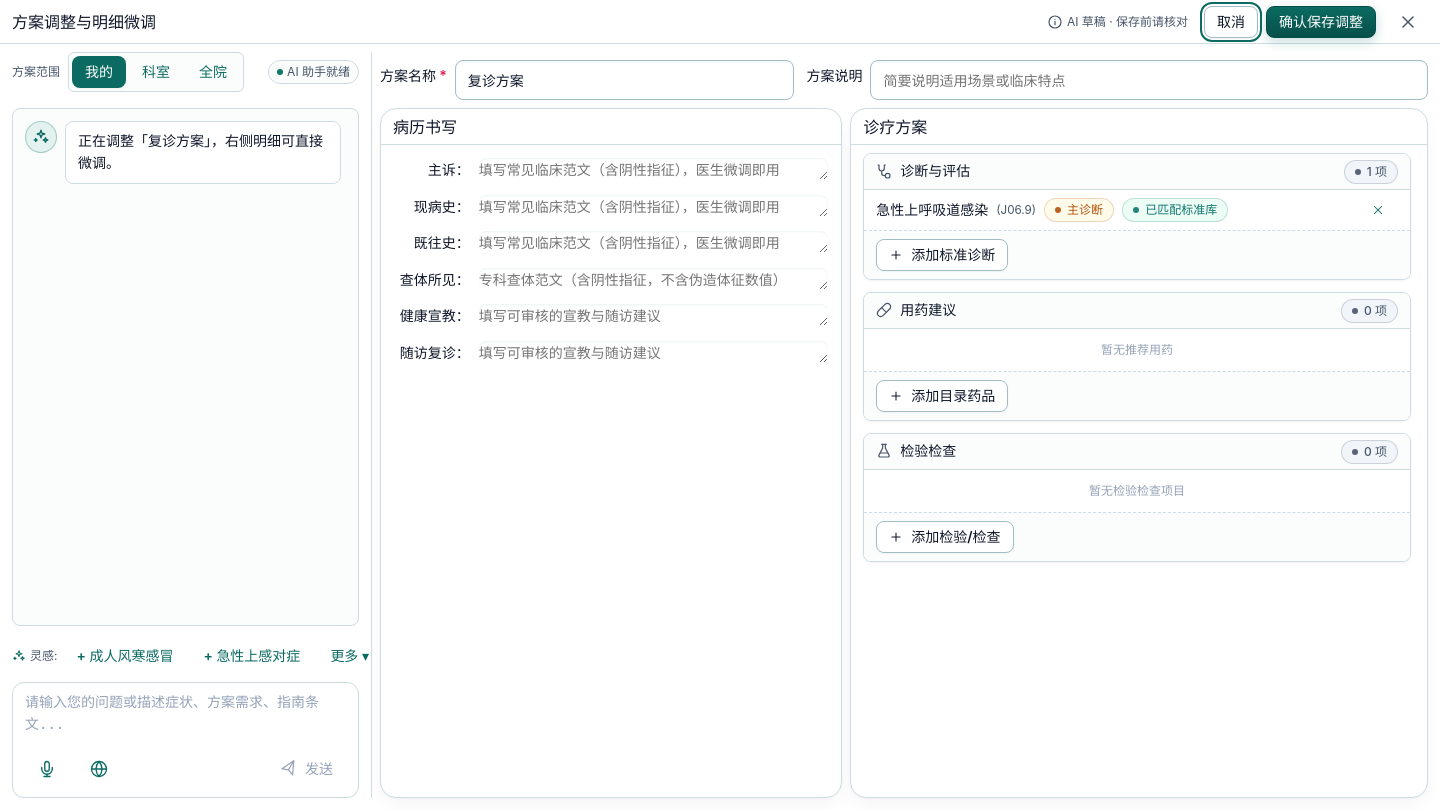
it: AI plan catalog search workflow › keeps medication query failures visible and supports a retry
Click the button "添加目录药品" at x=942, y=396, box [876,380,1008,412]
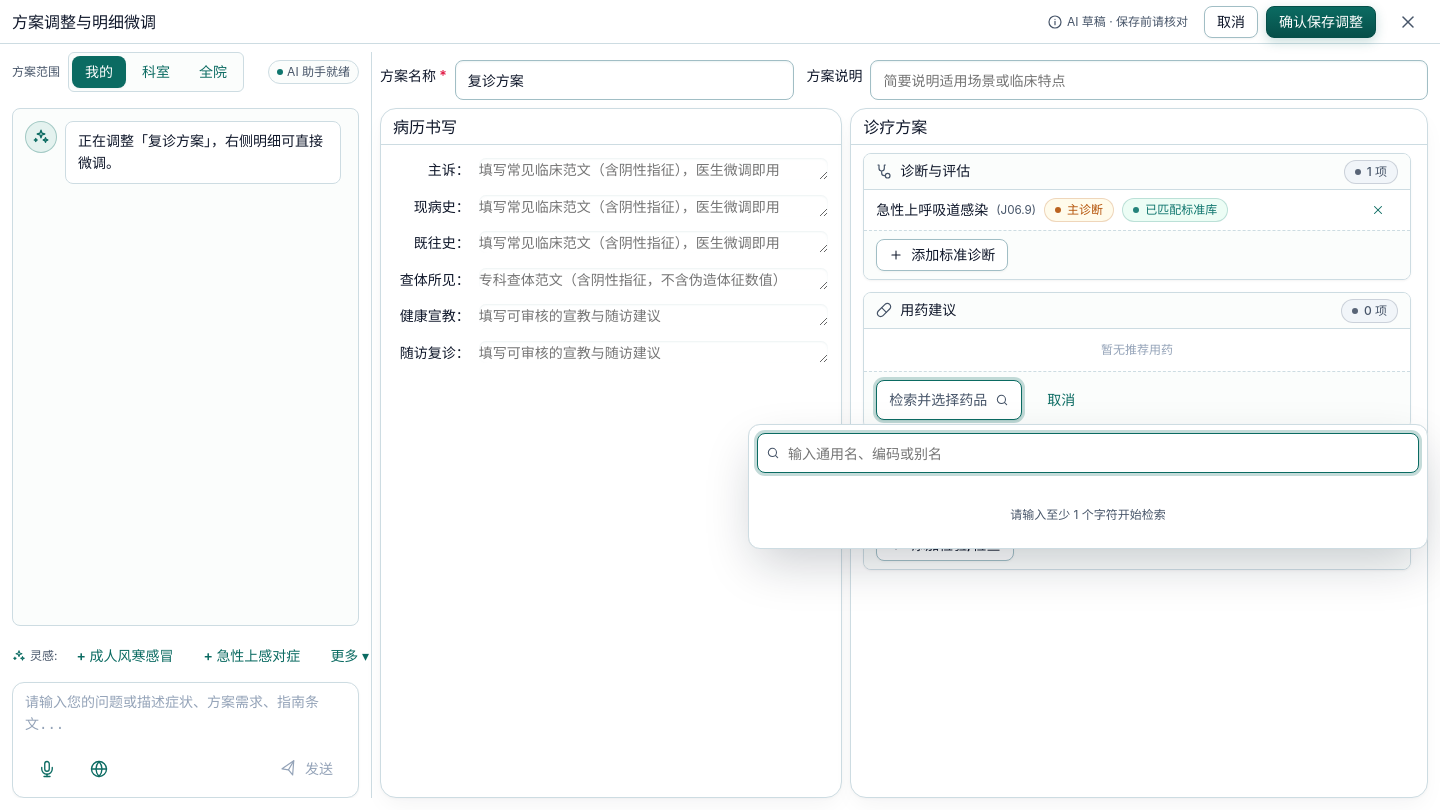
Type "目标" into the field with placeholder "输入通用名、编码或别名" at x=1099, y=453, box [788,437,1410,469]
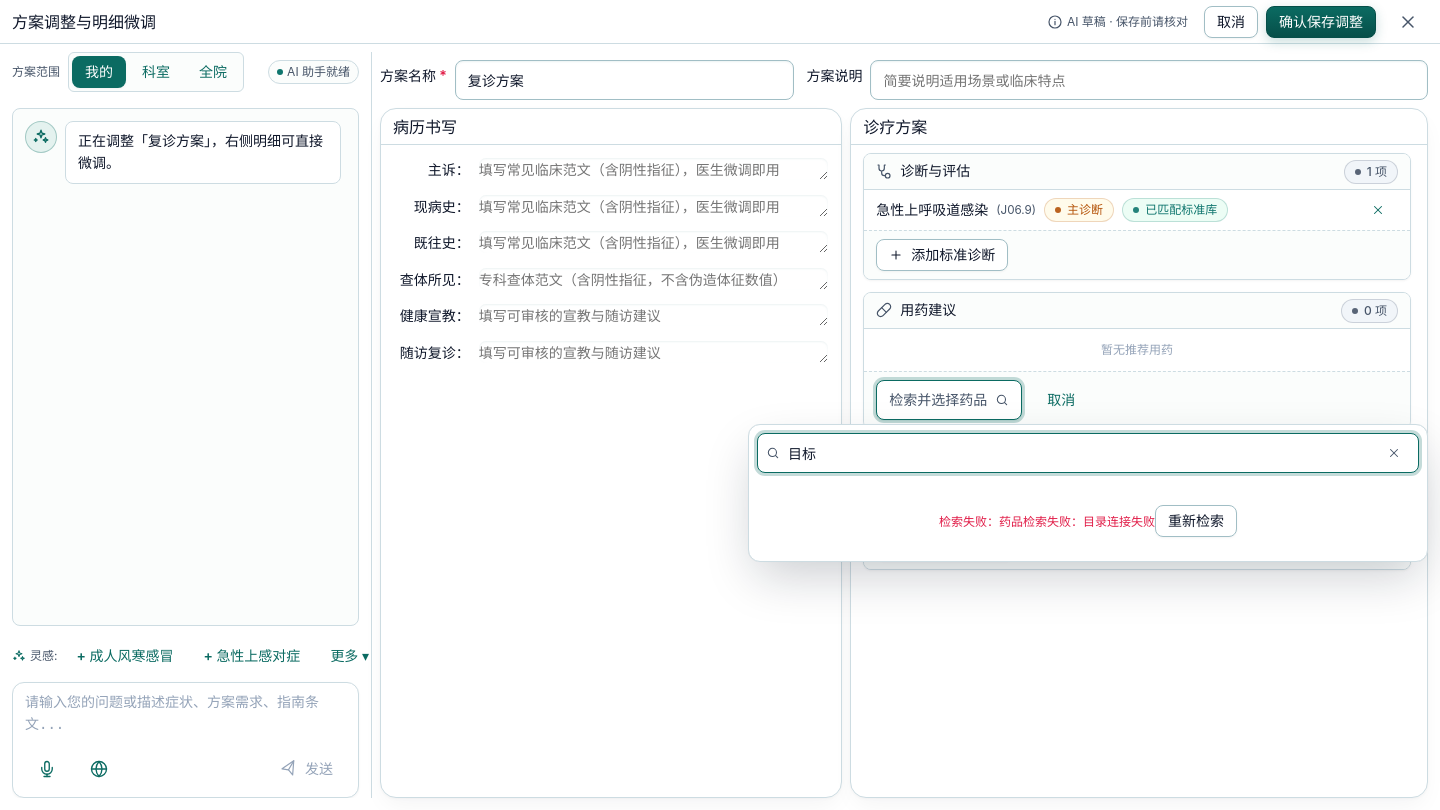
expect the message shows "目录连接失败": met, box [939,514,1155,529]
Click the button "重新检索" at x=1196, y=521, box [1155,505,1237,537]
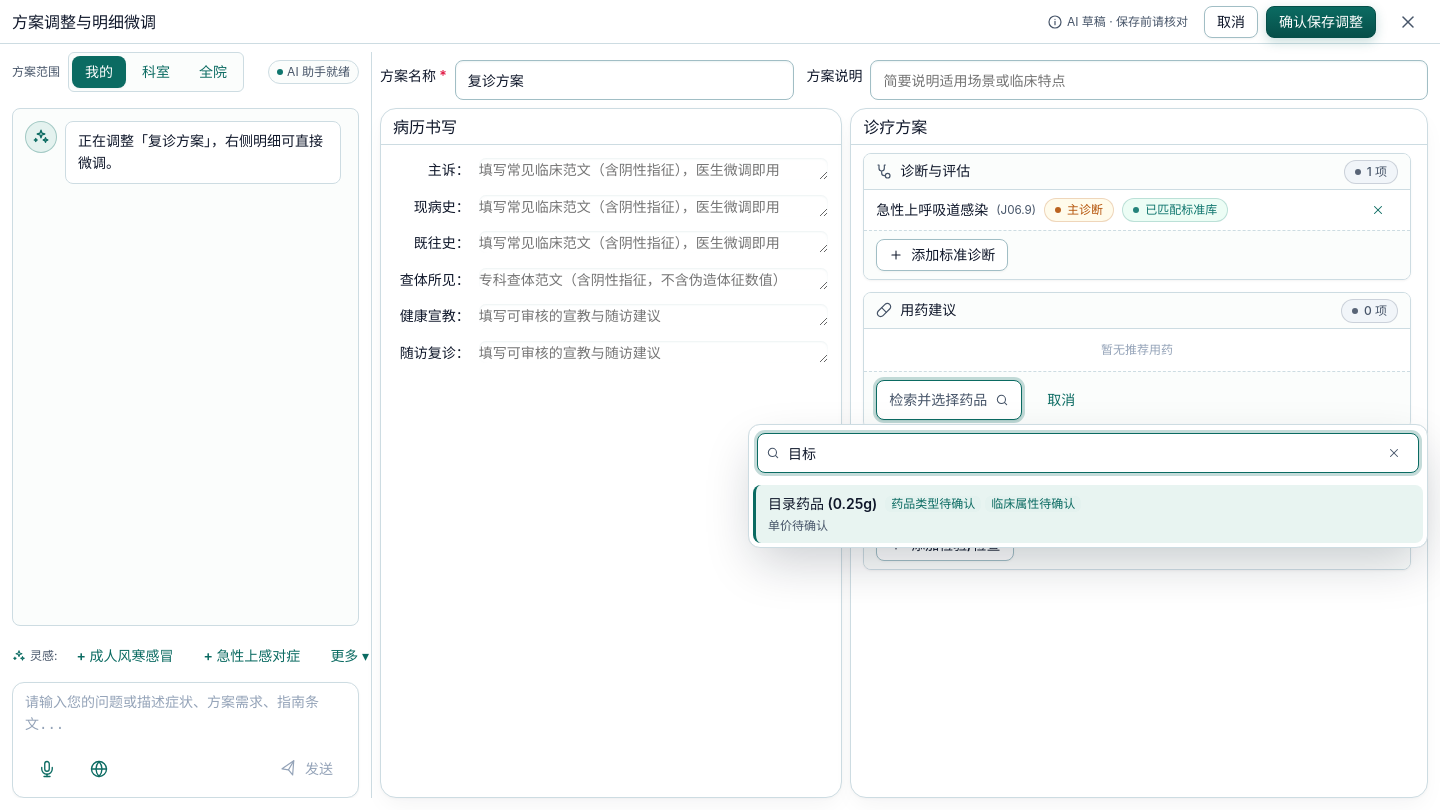
expect the option "目录药品 (0.25g) 药品类型待确认 临床属性待确认 单价待确认" is shown: met, box [753,485,1423,543]
